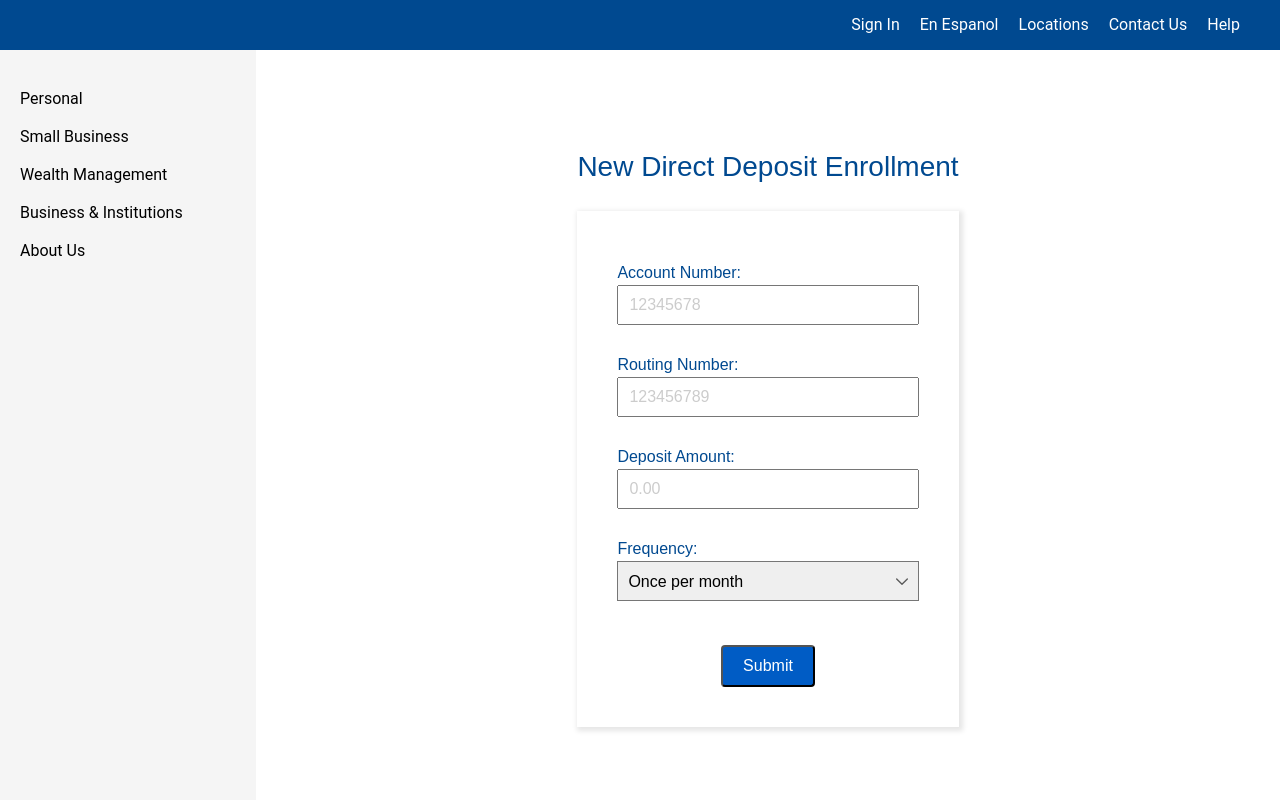
Test: Enrollment › routing number validation › should routing number fewer than 9 digits
The image size is (1280, 800).
Type "12345678" into the number field with id "routingNumber" at [768, 397], box x1=617 y1=377 x2=918 y2=417
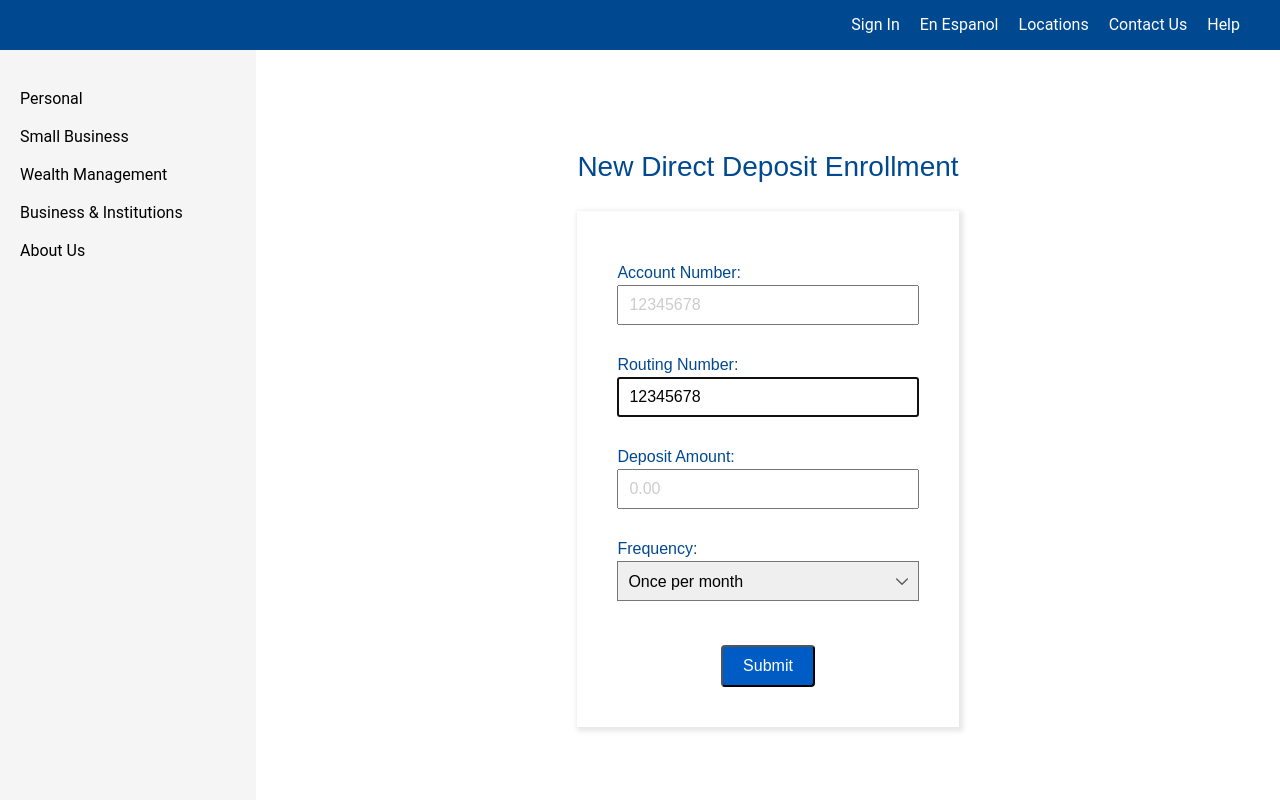
Submit the form, box x1=577 y1=211 x2=958 y2=727
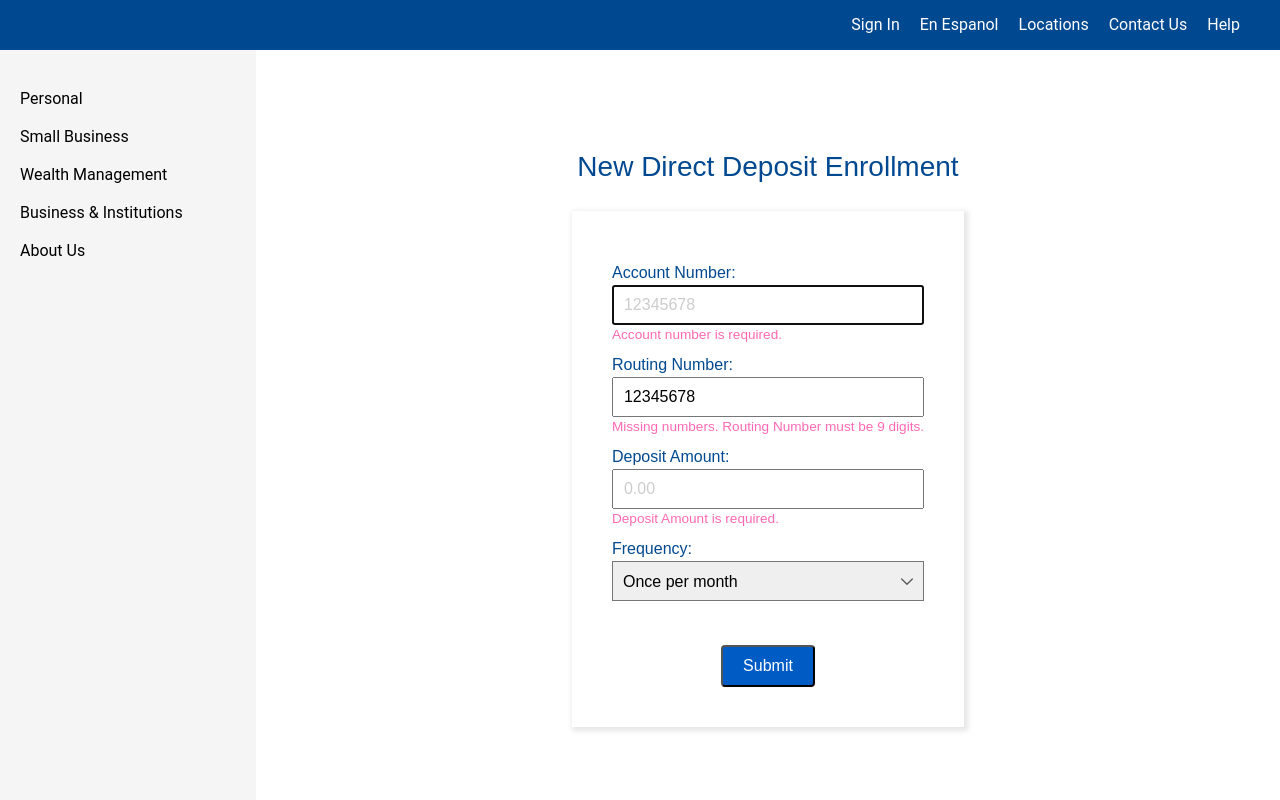
Result: the text "Missing numbers. Routing Number must be 9 digits." is shown at x1=612 y1=419 x2=924 y2=435
